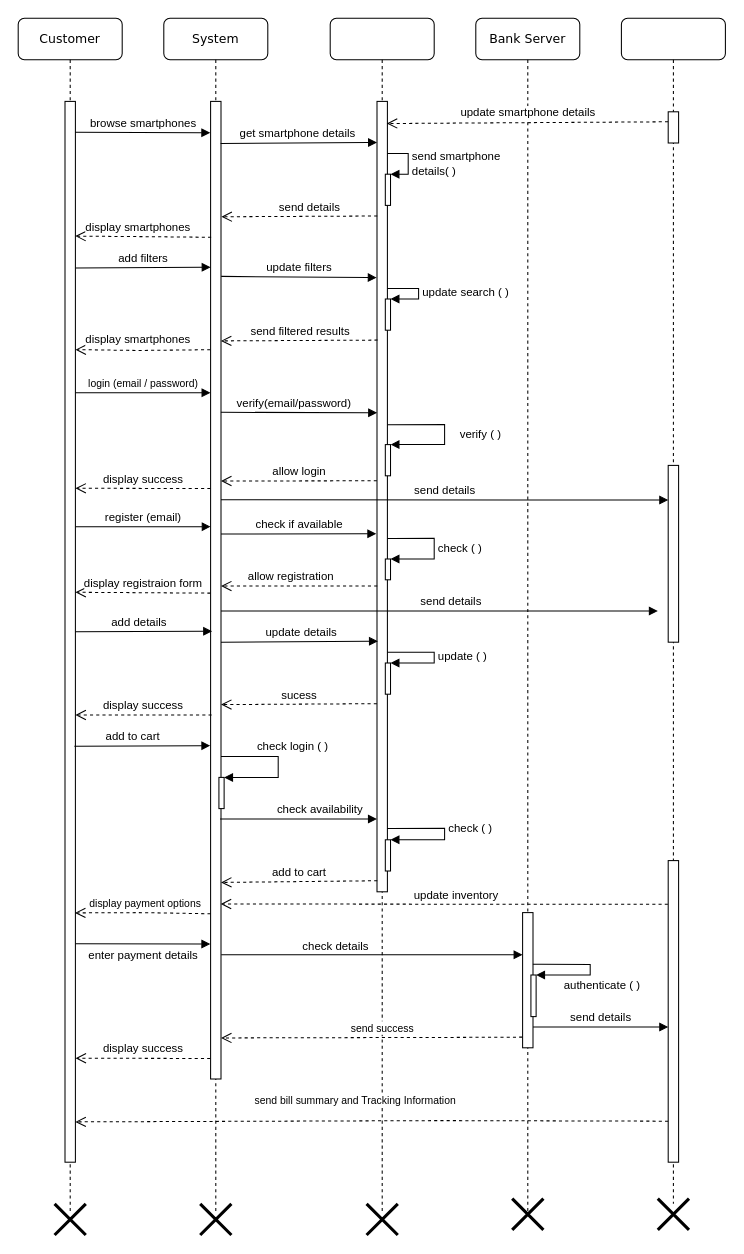
Some shapes in this 744 by 1254 pixel diagram are drawn without their labels. Each missing label, with the centre of its shape:
"Admin" belongs at (672,610).
"Server Database" belongs at (381,615).
